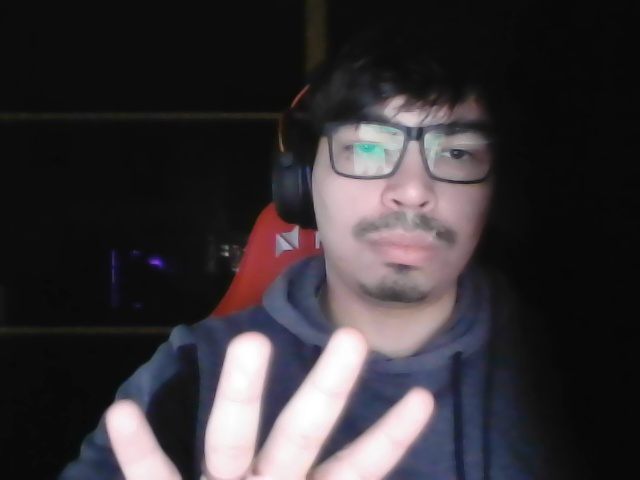four: (85, 315, 457, 480)
